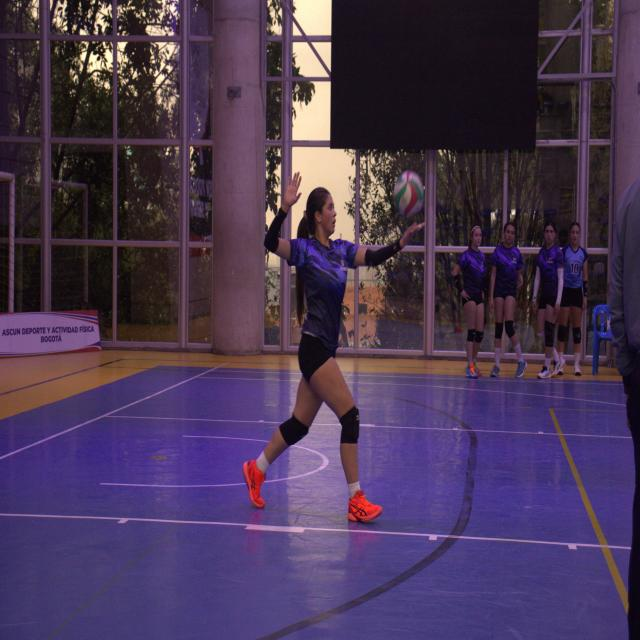volleyball: (391, 170, 425, 220)
